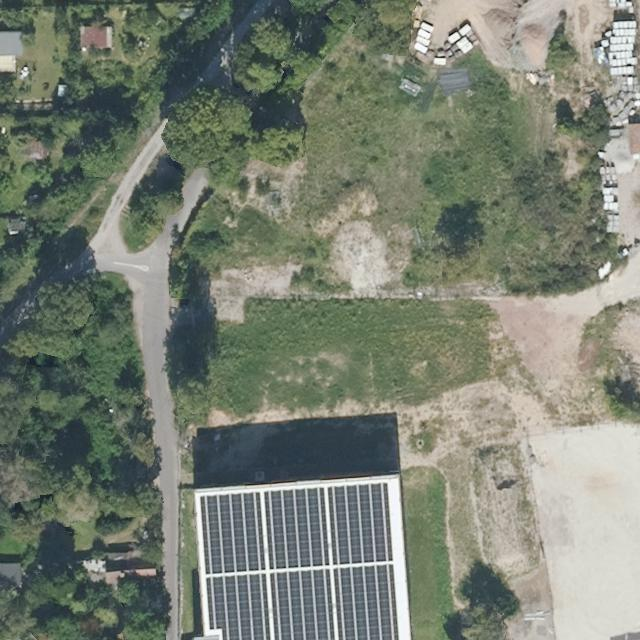PV: (202, 481, 402, 640)
